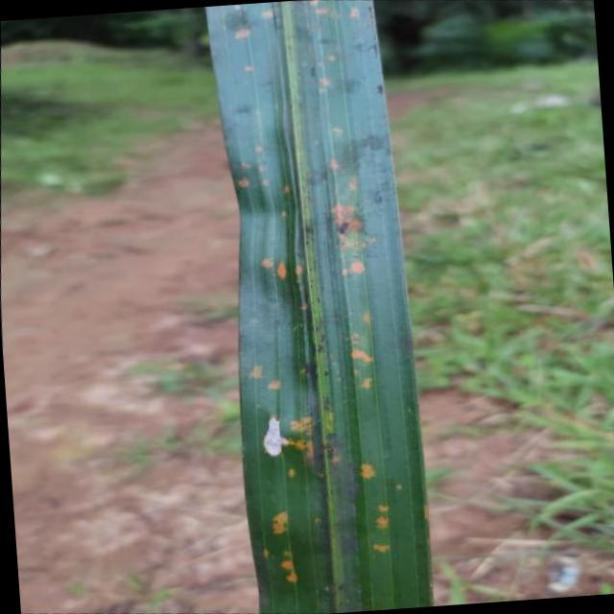Kalium: (203, 0, 435, 614)
